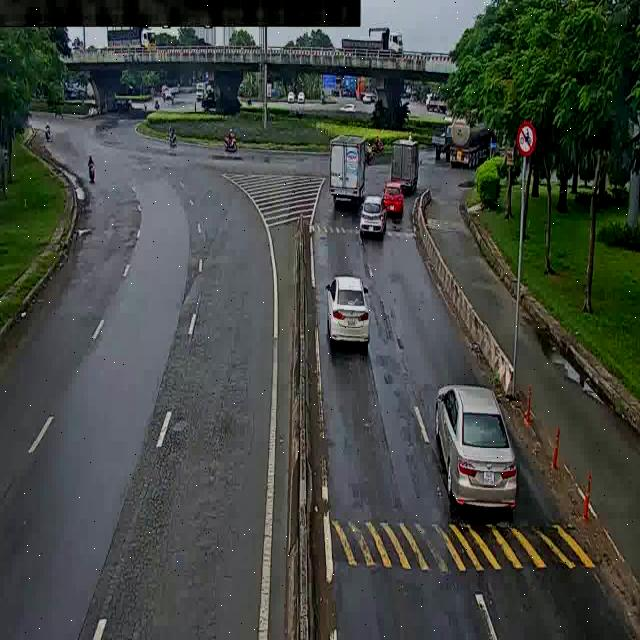car: (431, 388, 530, 514), (323, 258, 401, 370), (355, 190, 390, 235), (381, 177, 413, 222), (338, 99, 362, 124)
motorbike: (216, 128, 249, 165), (160, 116, 182, 149), (84, 154, 104, 187), (40, 119, 57, 147)
truck: (435, 110, 489, 177), (318, 132, 367, 203), (382, 133, 421, 194)
